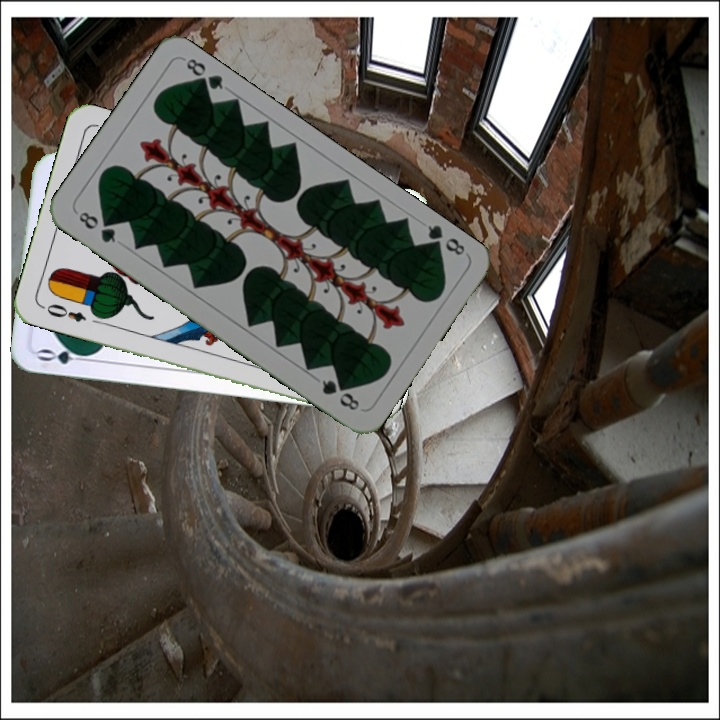EO: (37, 299, 89, 325)
G8: (421, 220, 468, 258), (74, 207, 119, 246)
GO: (34, 344, 94, 367)
